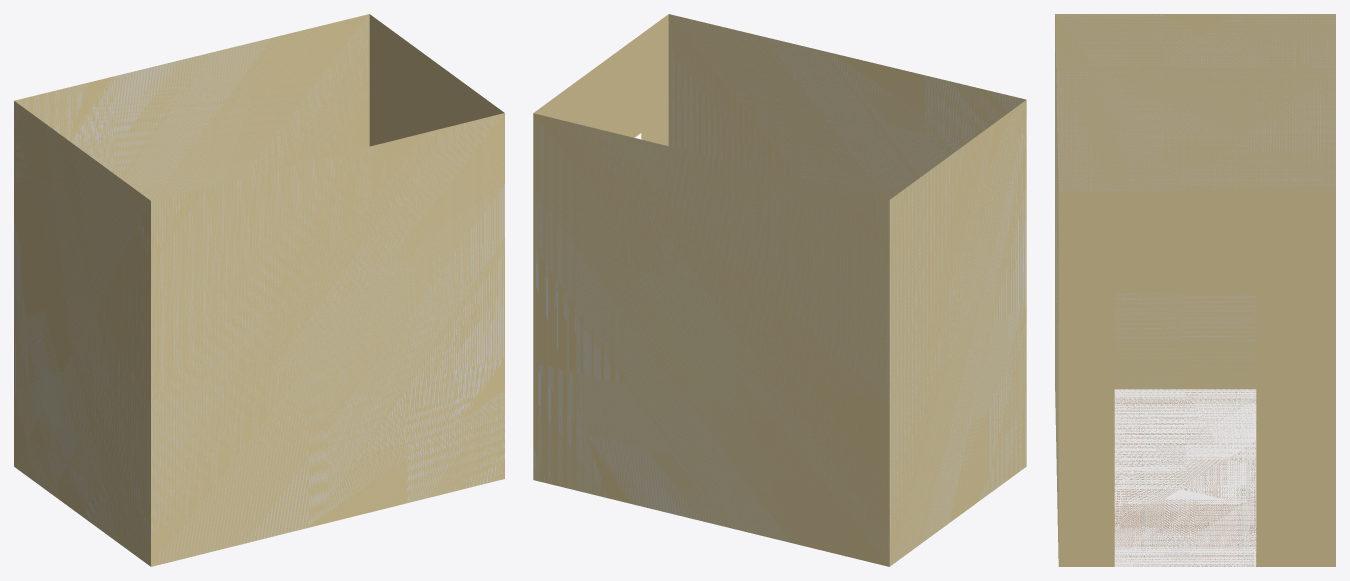
File: CUA039.obj
3 renders of one model, left to right at view 1: azimuth 30°, elevation 25°; view 2: azimuth 150°, elevation 25°; view 3: azimuth 270°, elevation 25°, orthographic. The views are drawn at different scales.
Parts seen in each view (by area): view 1: Mesh1 CUA039 Model; view 2: Mesh1 CUA039 Model; view 3: Mesh1 CUA039 Model.
Boxes of the visible parts, x1,y1,x2,y2 form: Mesh1 CUA039 Model: (14, 14, 504, 566); Mesh1 CUA039 Model: (533, 14, 1026, 566); Mesh1 CUA039 Model: (1055, 14, 1335, 566).
Size of the model in its own units: 3.05 by 3 by 2.03.
Materials: 3 (1 with a texture image).
